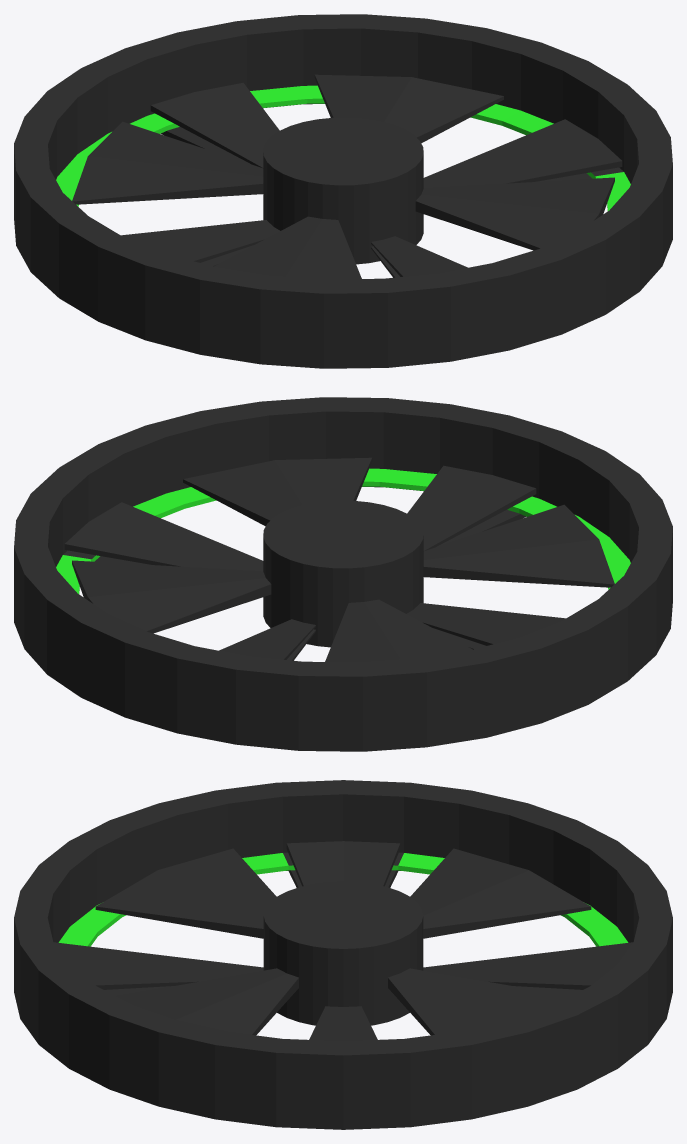
Rendered from hat.fbx.
The picture shows the model from 3 angles, top to bottom: view 1: azimuth 30°, elevation 25°; view 2: azimuth 150°, elevation 25°; view 3: azimuth 270°, elevation 25°; orthographic projection.
Visible parts, largest first — view 1: Circle; view 2: Circle; view 3: Circle.
Boxes of the visible parts, left/top/right/bottom form: Circle: left=14, top=14, right=672, bottom=368; Circle: left=14, top=397, right=672, bottom=751; Circle: left=14, top=780, right=672, bottom=1129.
Size of the model in its own units: 104 by 13.88 by 105.
Materials: 1 (1 with a texture image).
